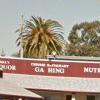Palm tree: (23, 11, 68, 56)
